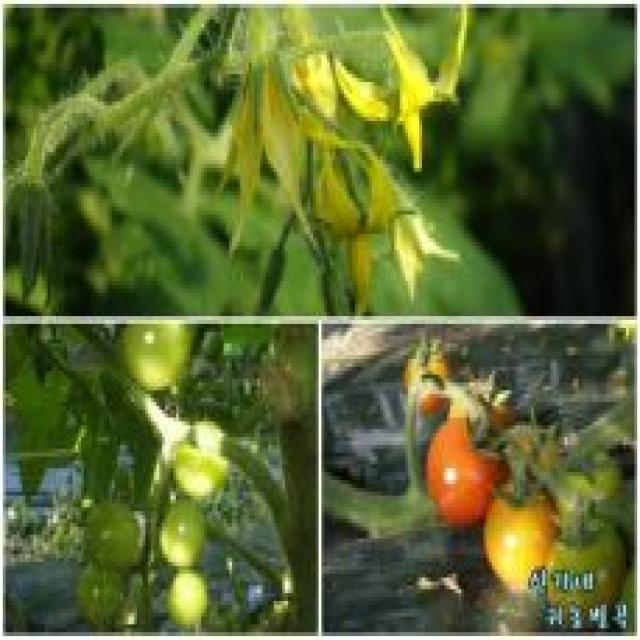level 1: (79, 492, 151, 571), (62, 548, 134, 627)
level 2: (96, 302, 197, 394), (155, 403, 236, 500), (141, 508, 224, 575), (154, 564, 210, 624)
level 3: (538, 515, 628, 621), (479, 404, 570, 494), (396, 342, 452, 421)
level 4: (476, 480, 560, 592), (451, 371, 518, 451)
level 5: (420, 408, 512, 542)
